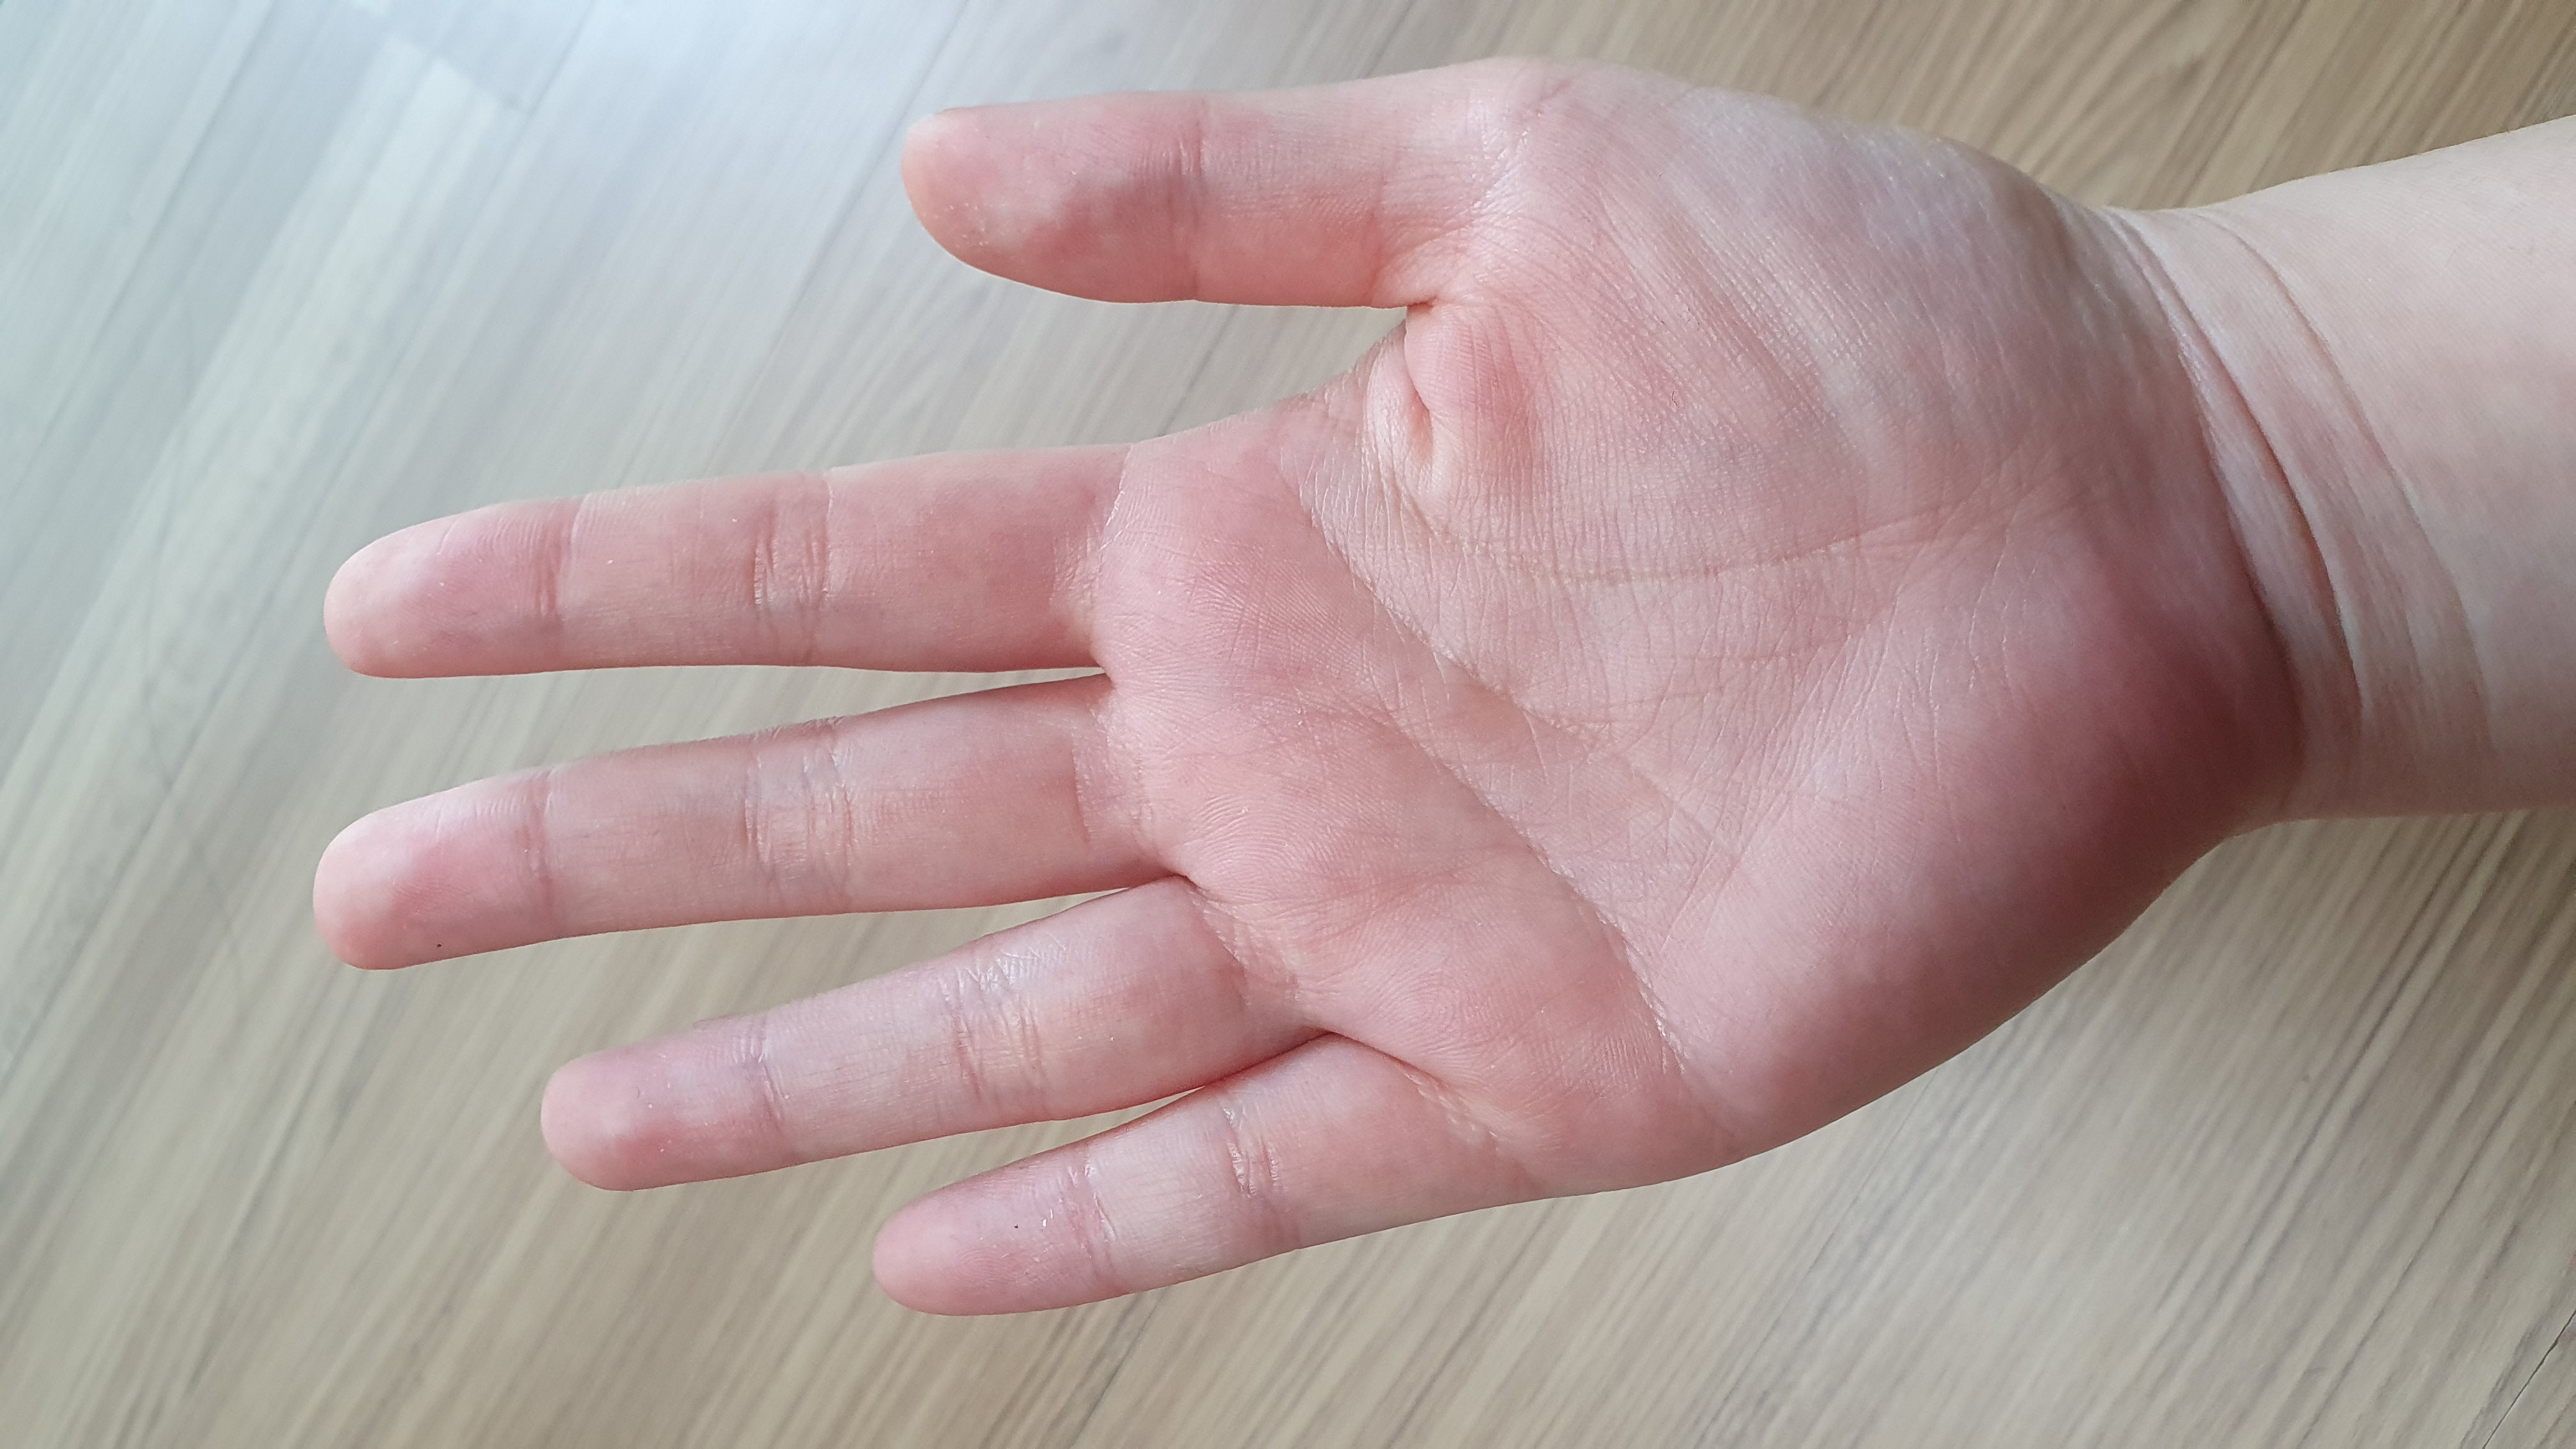hand: (280, 65, 2166, 1334)
index finger: (327, 451, 1122, 704)
middle finger: (304, 669, 1168, 994)
palm: (1129, 248, 2187, 1148)
pinky: (872, 1021, 1484, 1329)
ring finger: (525, 897, 1286, 1207)
thumb: (890, 69, 1444, 317)
